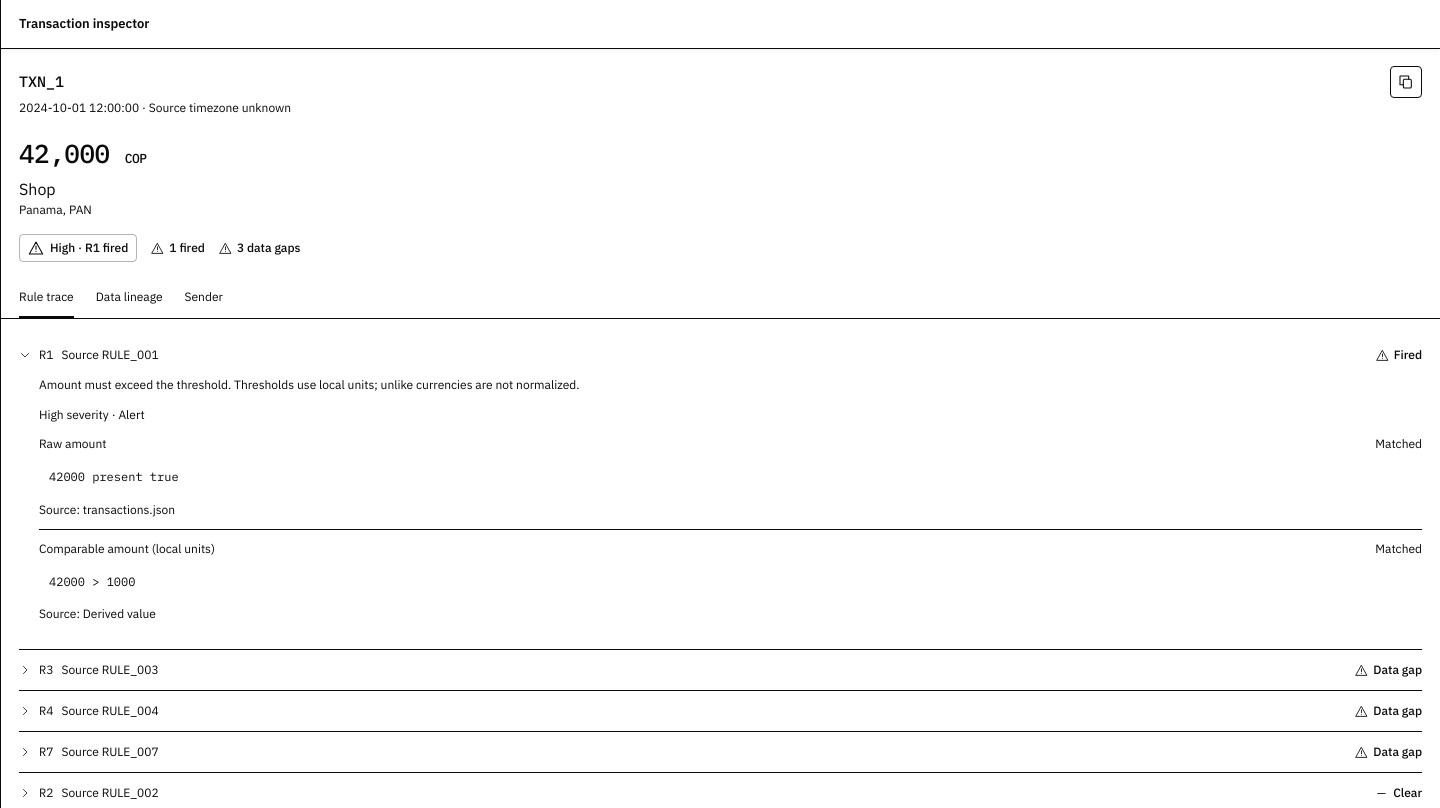
Test case: forensic inspector › reports clipboard failure instead of claiming the ID was copied
Click the button named "Copy transaction ID" at (1406, 82), box [1390,66,1422,98]
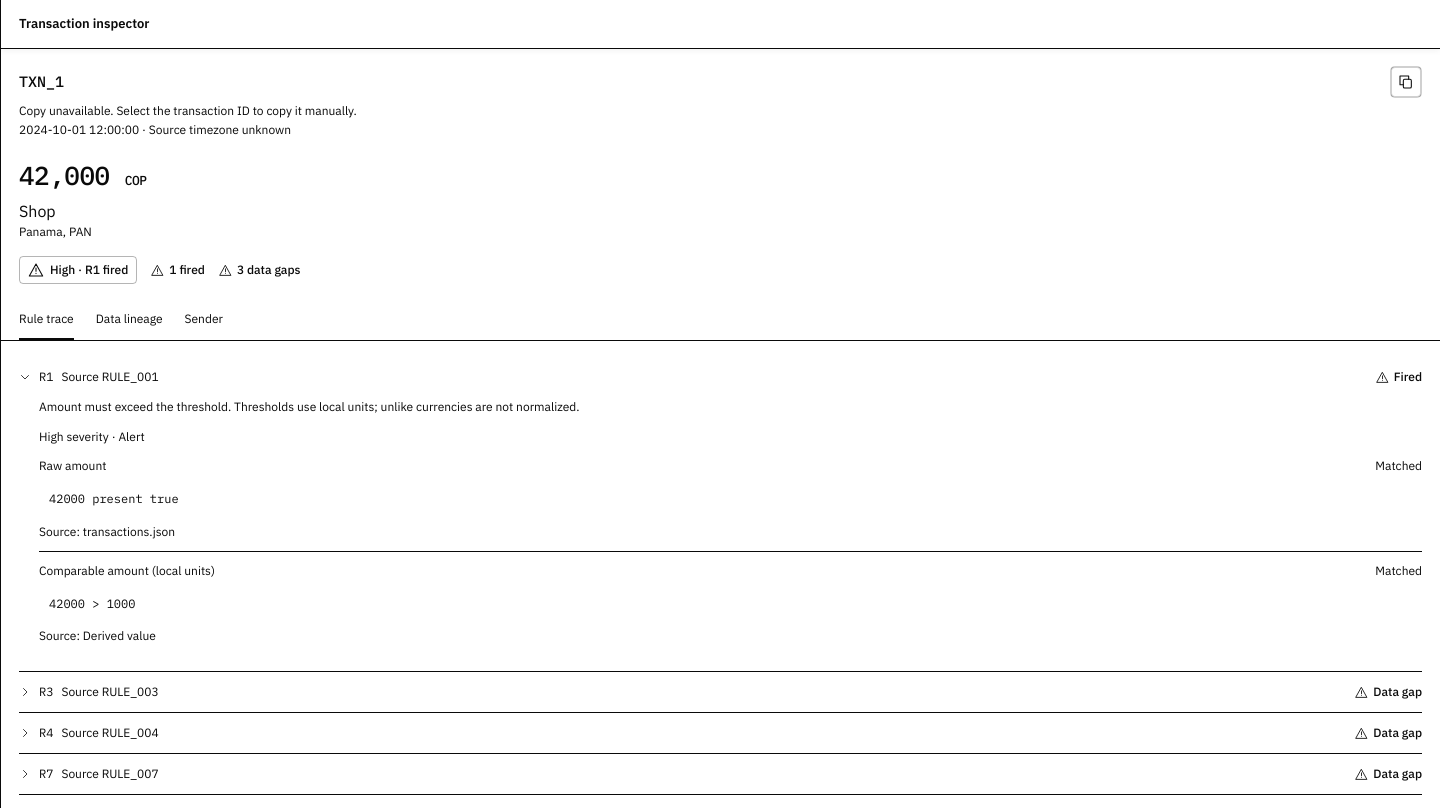
Expected: the message shows "Copy unavailable", [19,103,357,118]
